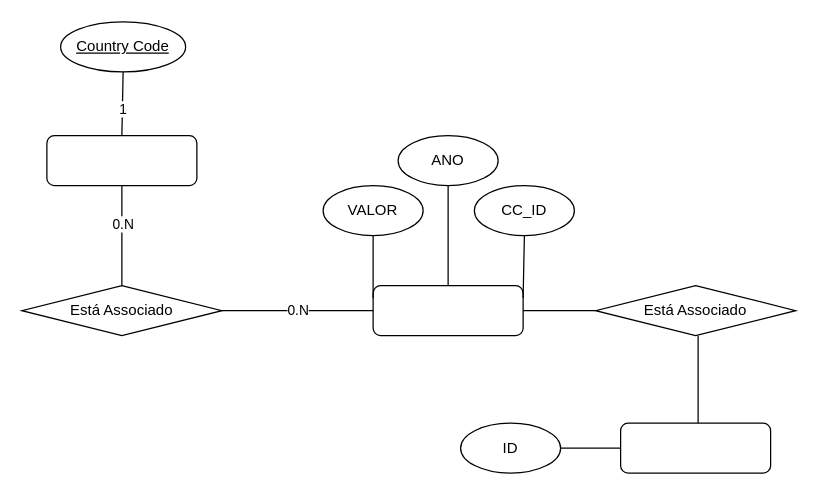
Image size: 818x495. Some labels were removed from this diagram. Each missing label, with the centre of its shape:
"Country" goes at (x=121, y=160).
"Dados" goes at (x=447, y=310).
"Indicador" goes at (x=695, y=447).
